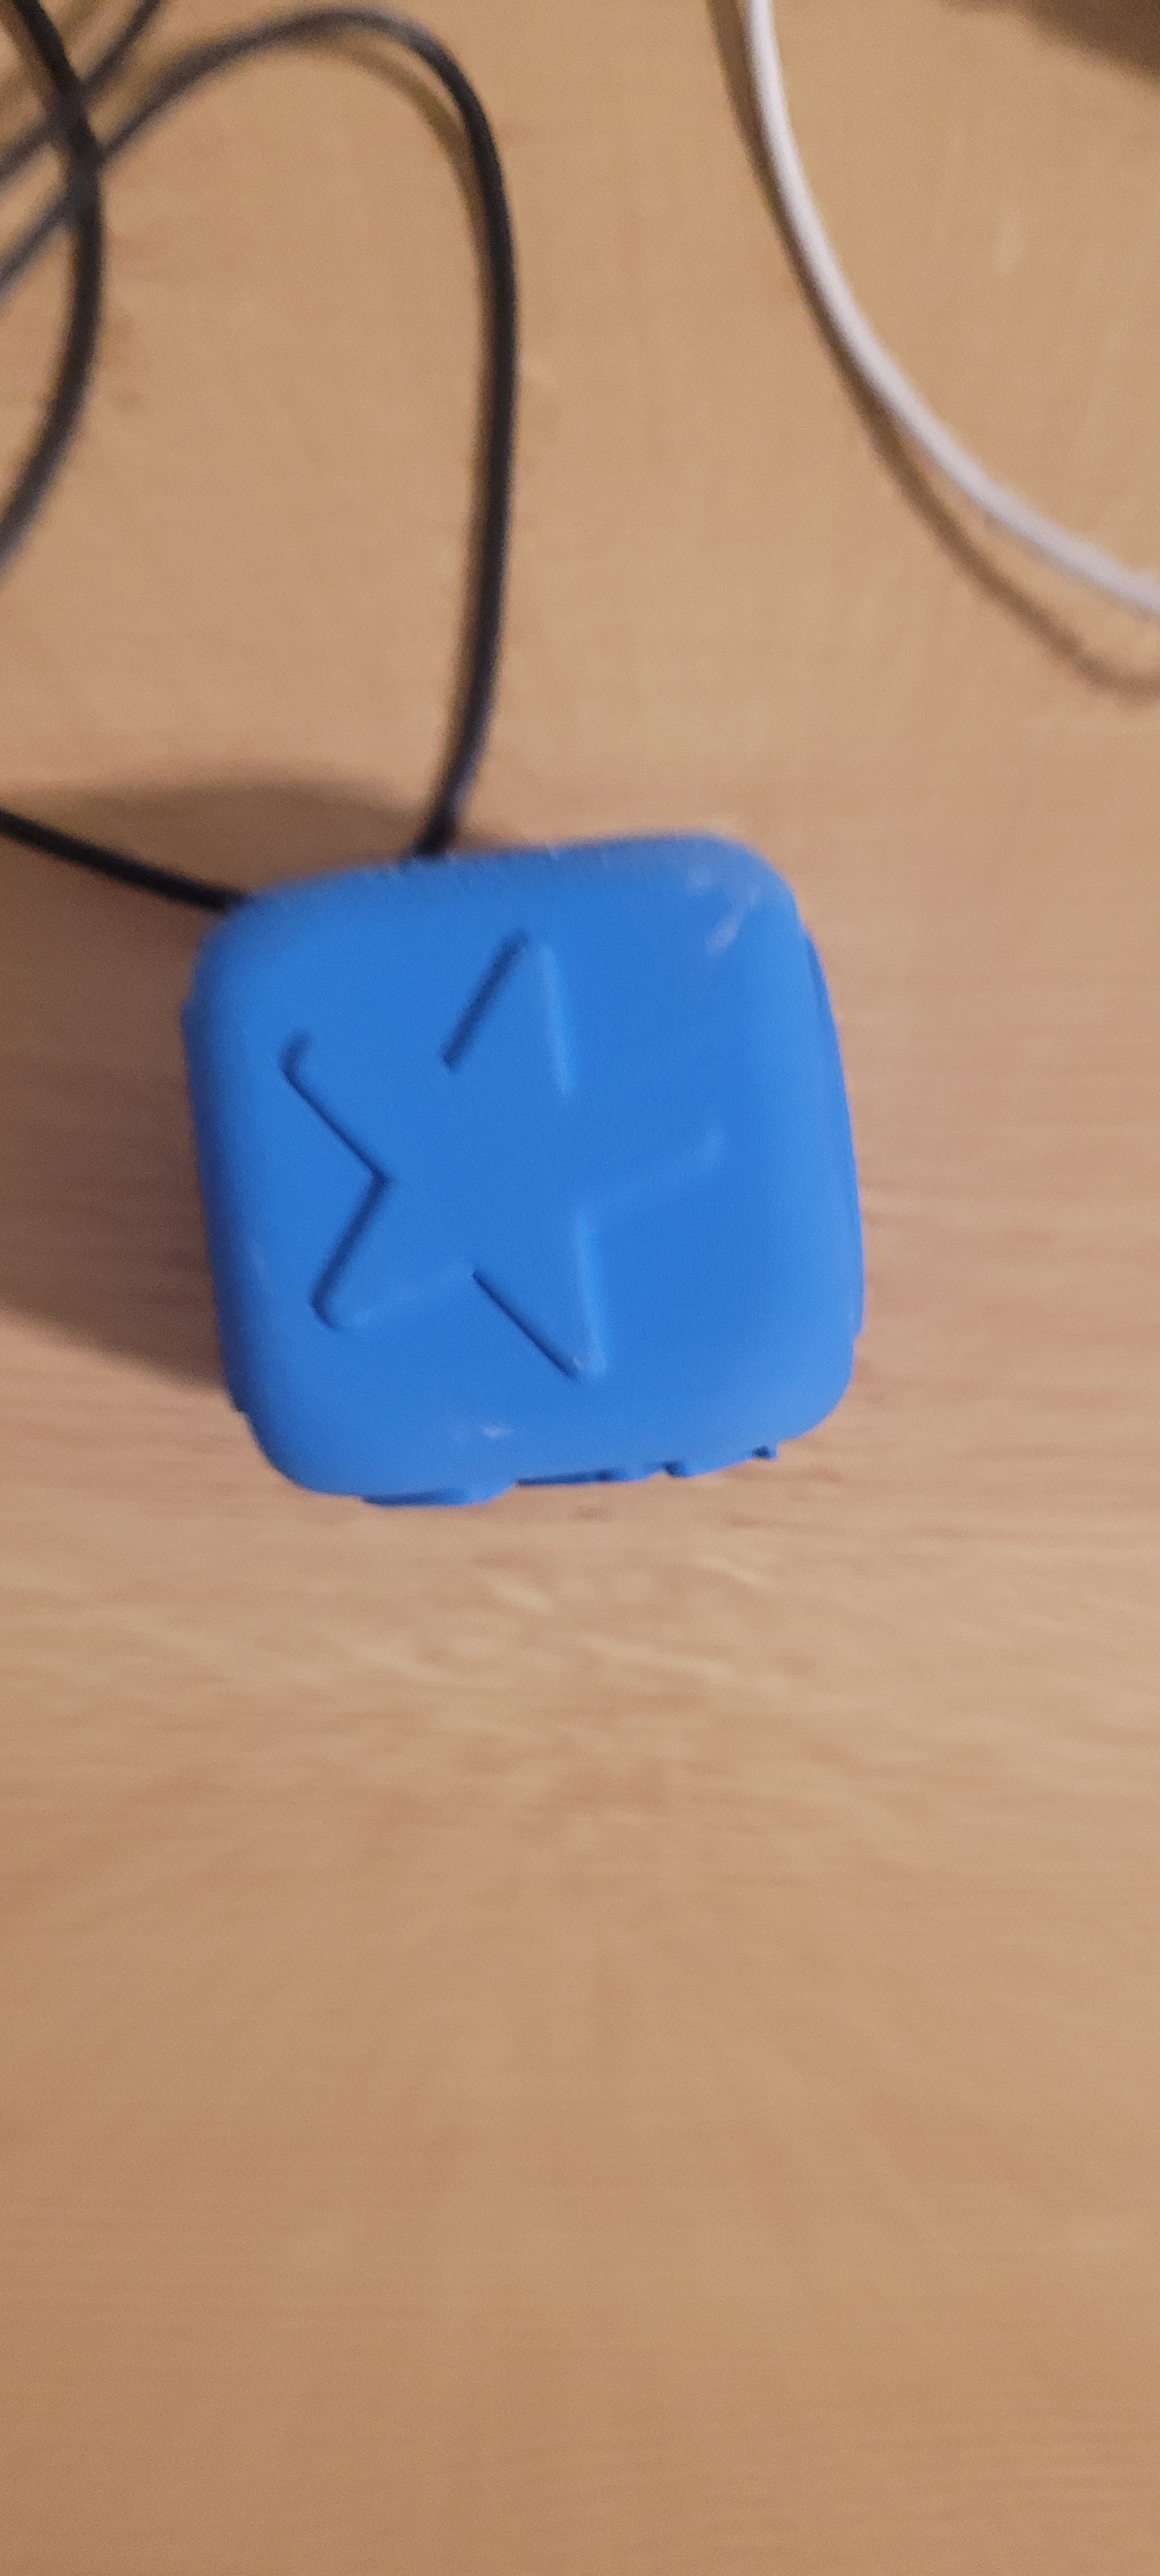Star: (222, 936, 810, 1464)
